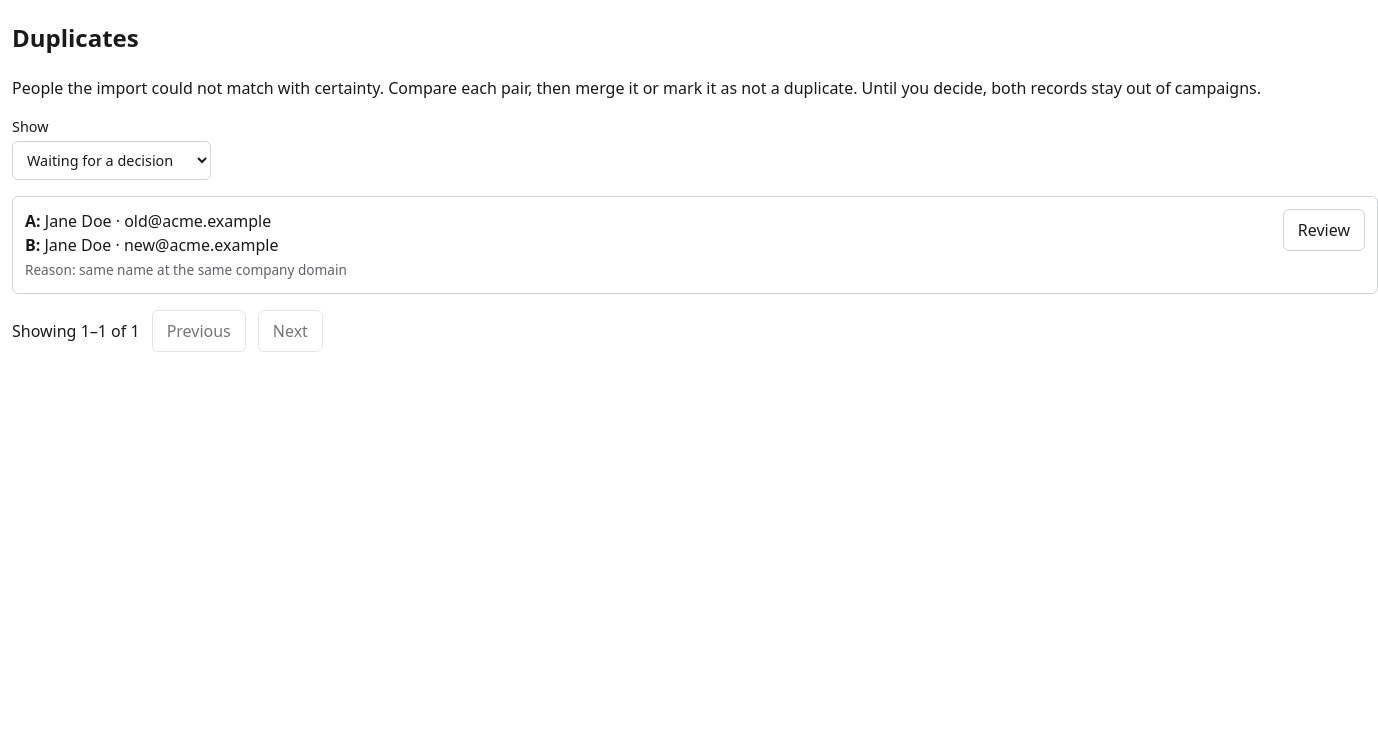
Test: compare and merge › 403: the refusal is only displayed; the button was shown to this user anyway
Expected: the text "Jane Doe · old@acme.example" is shown, 45,210 -> 271,232
Click the button with aria-label "Review Jane Doe" at point(1324, 230), box 1283,209 -> 1365,251
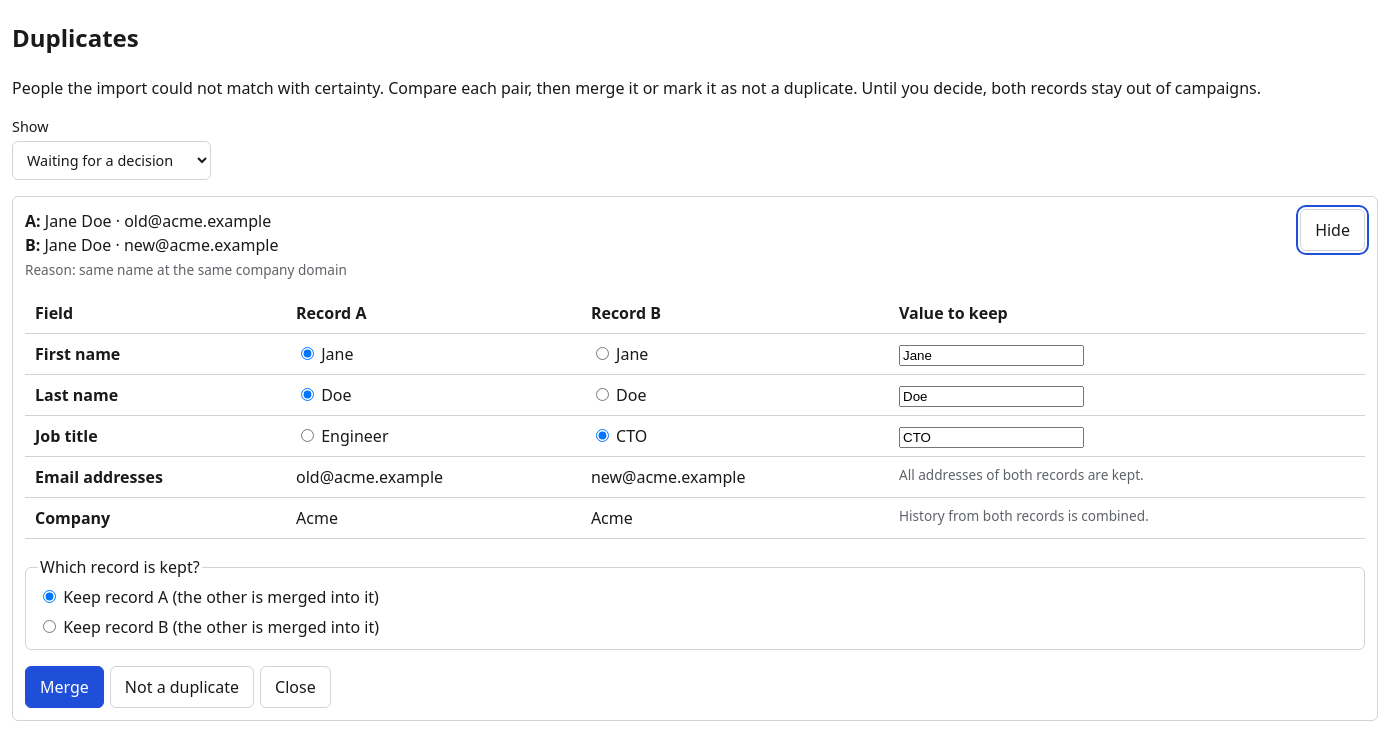
Click the button "Merge" at point(64, 687), box 25,666 -> 104,708
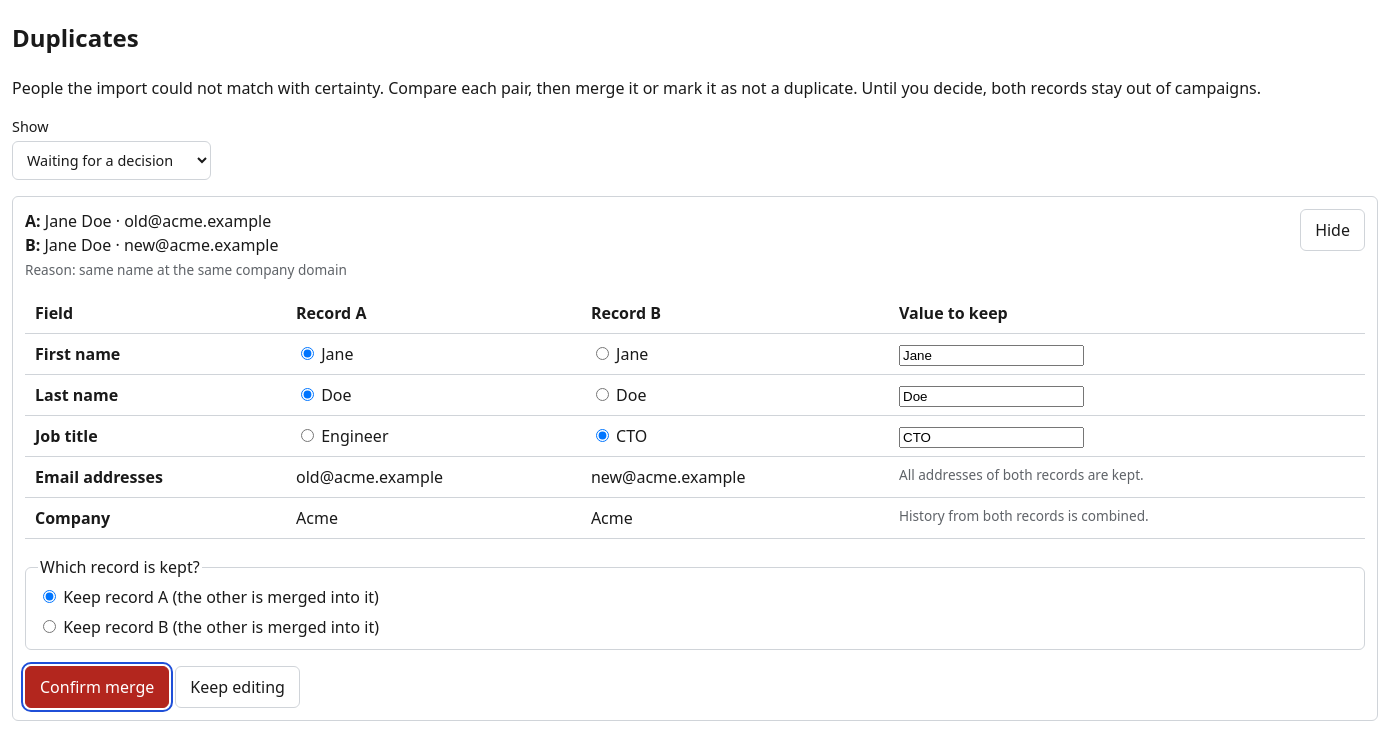
Click the button "Confirm merge" at point(97, 687), box 25,666 -> 169,708
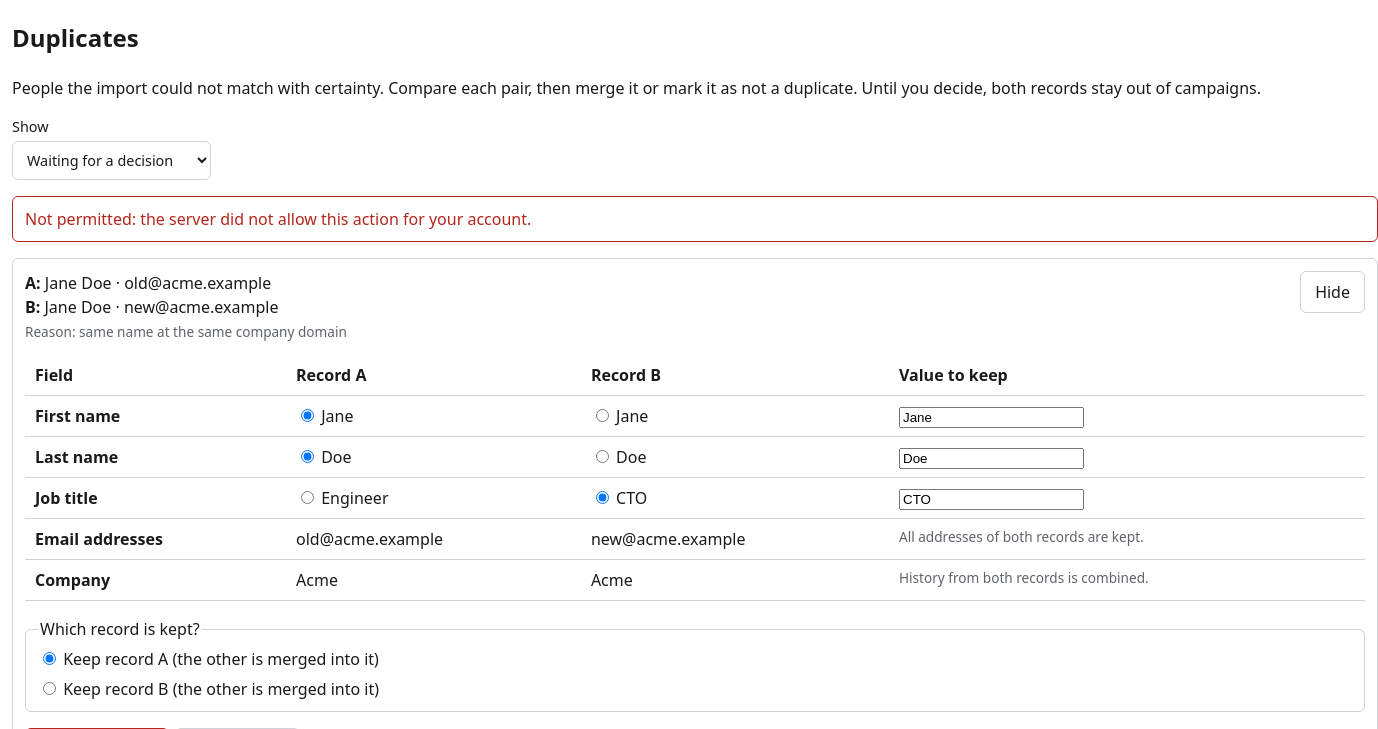
Result: the message shows "Not permitted" at 25,208 -> 531,230
